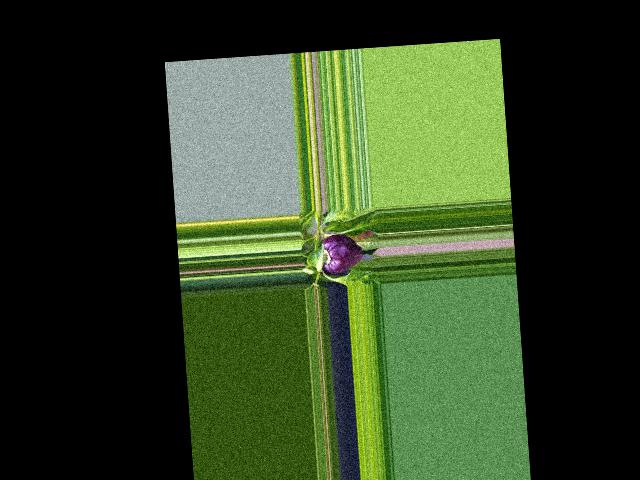bell_pepper: (316, 231, 365, 274)
